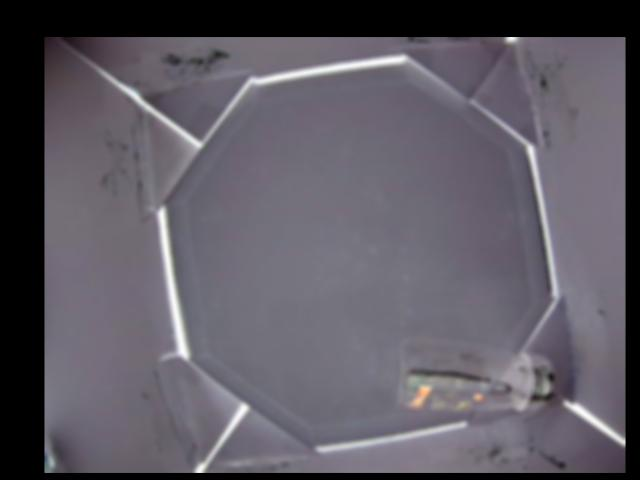Bottle: (397, 339, 556, 413)
